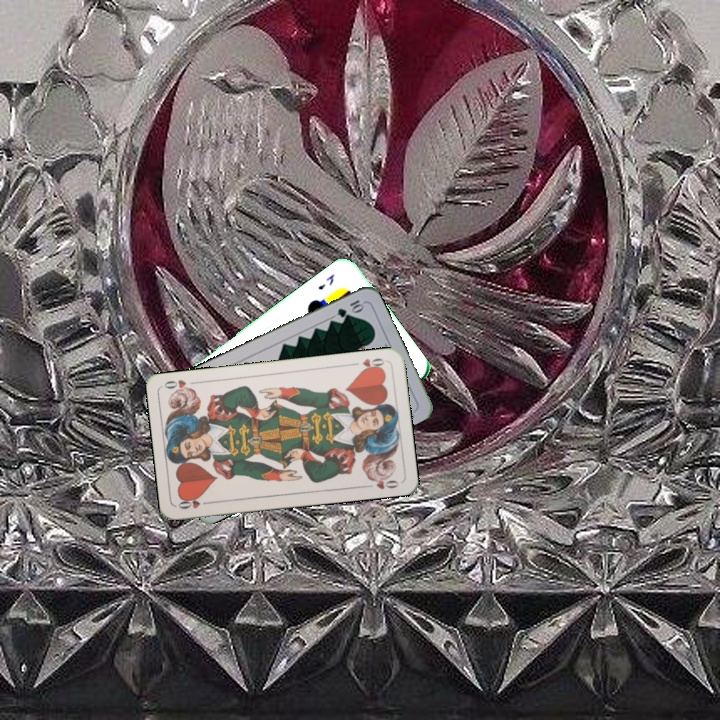EK: (314, 269, 338, 293)
G10: (333, 295, 367, 320)
HO: (348, 354, 388, 374), (174, 494, 215, 512)
